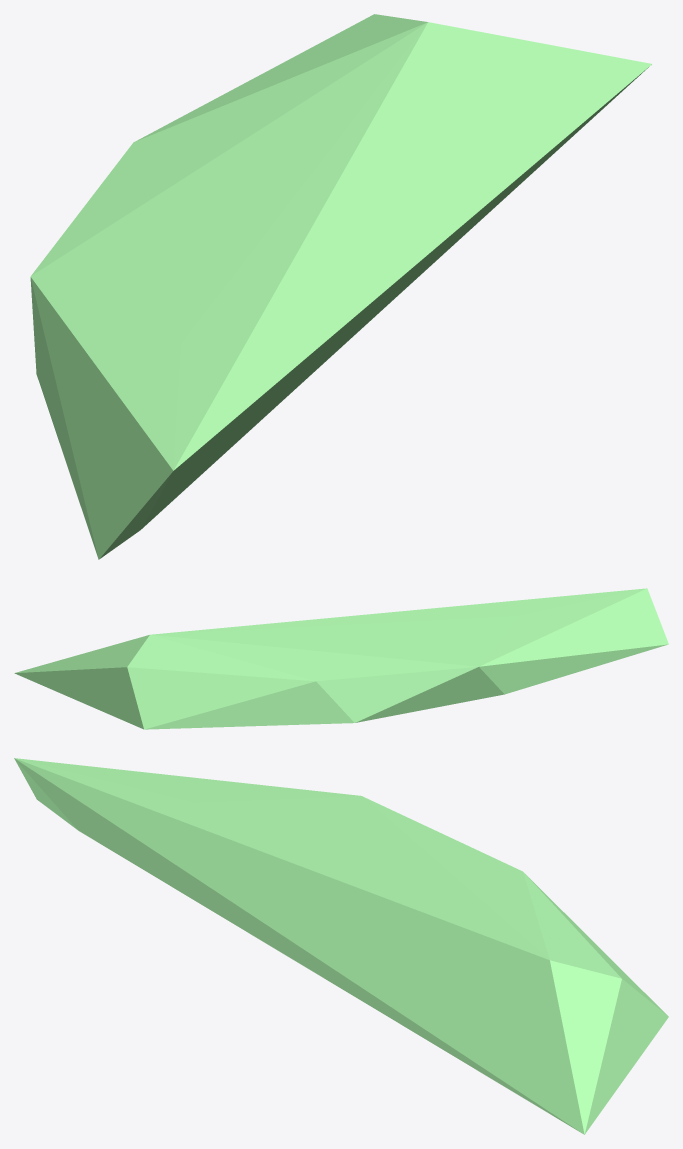
File: panda_link4_resp_coll_4.dae
The picture shows the model from 3 angles, top to bottom: view 1: azimuth 30°, elevation 25°; view 2: azimuth 150°, elevation 25°; view 3: azimuth 270°, elevation 25°; orthographic projection. The views are drawn at different scales.
Parts seen in each view (by area): view 1: node; view 2: node; view 3: node.
Boxes of the visible parts, x1,y1,x2,y2 form: node: (30, 14, 651, 559); node: (14, 588, 668, 729); node: (14, 758, 668, 1134).
Bounding box in the file's own units: 0.0605 × 0.00747 × 0.0508.
